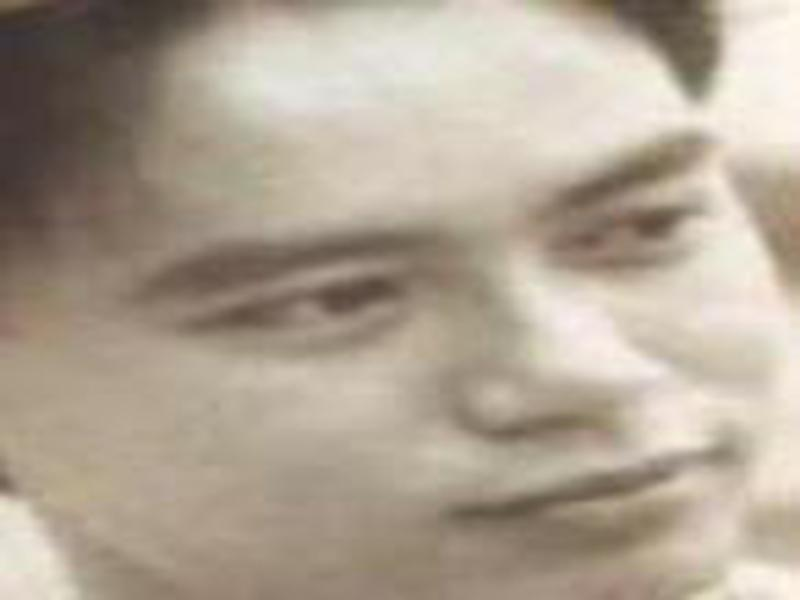without_mask: (34, 36, 780, 600)
